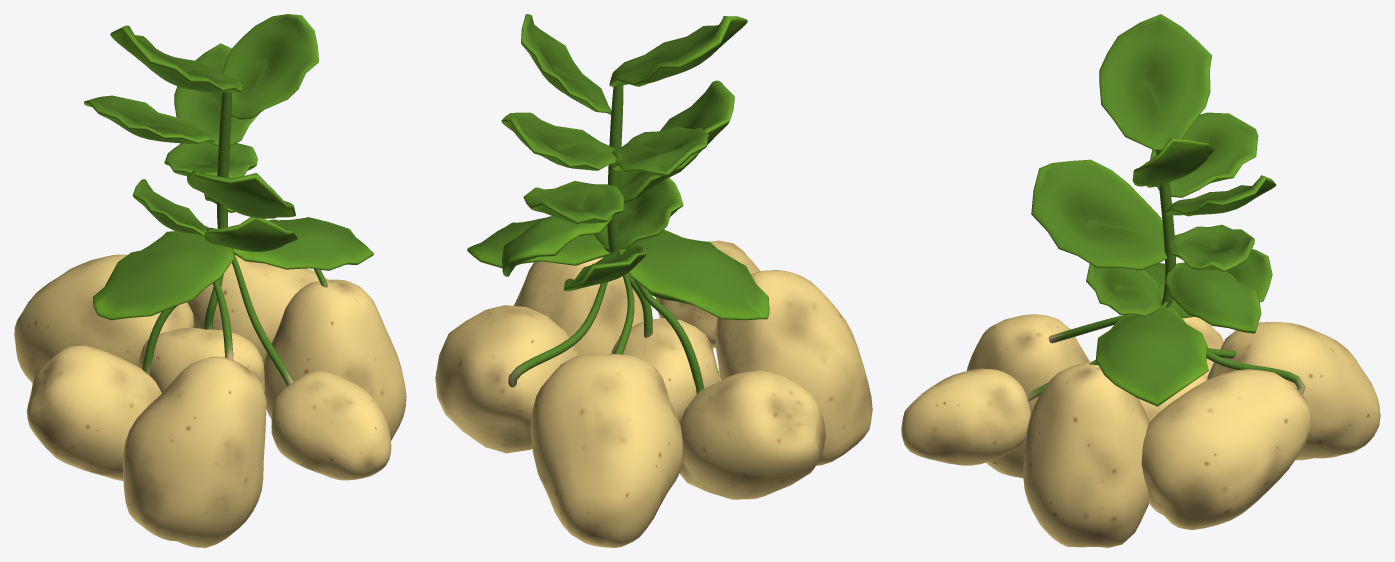
File: Patata_Planta.fbx
3 views of the same model, side by side, from view 1: azimuth 30°, elevation 25°; view 2: azimuth 150°, elevation 25°; view 3: azimuth 270°, elevation 25° (orthographic). The views are drawn at different scales.
Parts seen in each view (by area): view 1: Patata1; view 2: Patata1; view 3: Patata1.
Boxes of the visible parts, left/top/right/bottom form: Patata1: left=14, top=14, right=406, bottom=547; Patata1: left=435, top=14, right=872, bottom=547; Patata1: left=901, top=14, right=1380, bottom=547.
Bounding box in the file's own units: 5.18 × 6.98 × 6.62.
